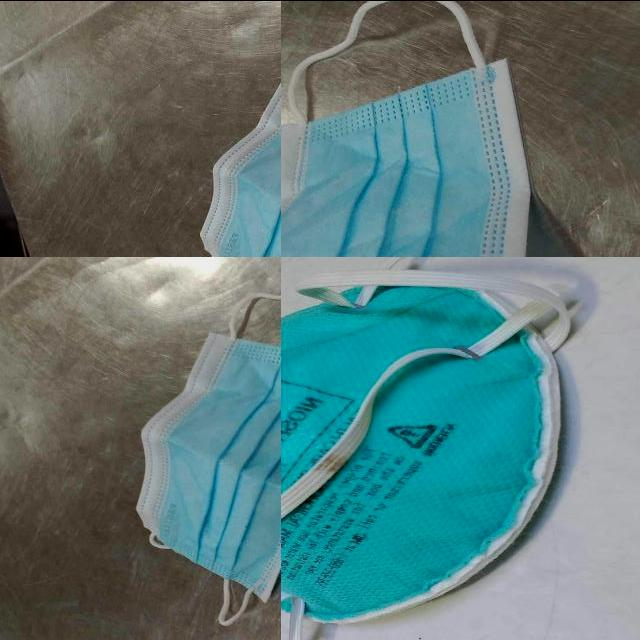General: (134, 3, 578, 633), (277, 280, 575, 625), (198, 0, 533, 256)
Infectious: (134, 298, 282, 623)
